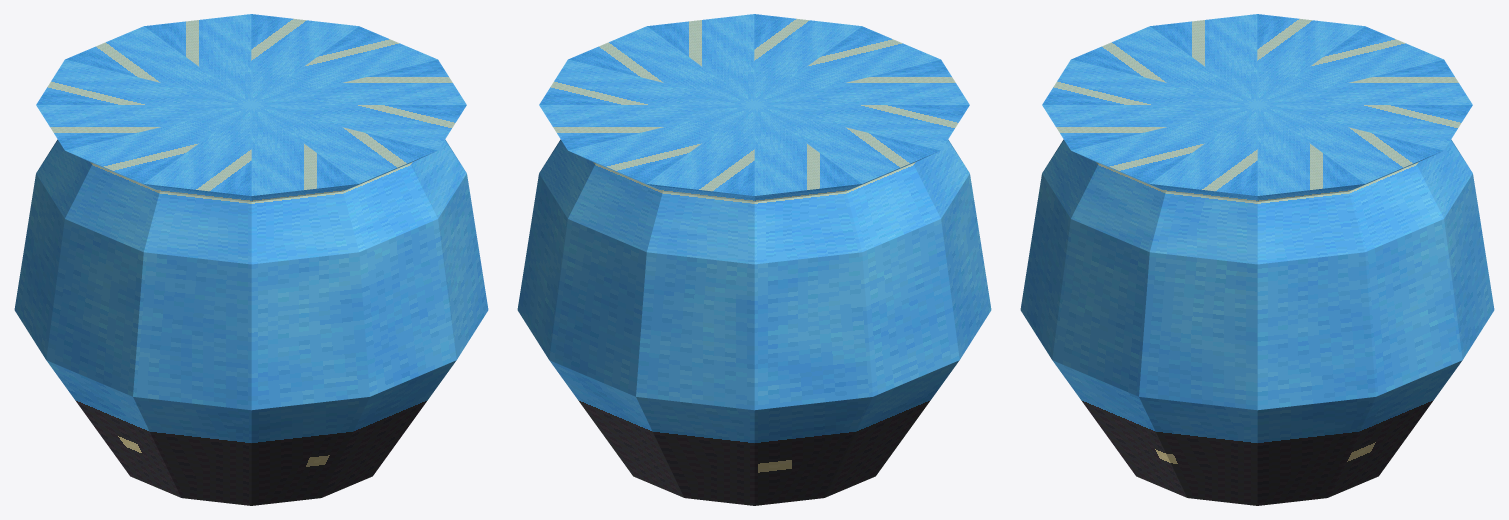
The model's file is braseiro_azul.glb.
3 views of the same model, side by side, from view 1: azimuth 30°, elevation 25°; view 2: azimuth 150°, elevation 25°; view 3: azimuth 270°, elevation 25° (orthographic).
Parts seen in each view (by area): view 1: braseiro_azul; view 2: braseiro_azul; view 3: braseiro_azul.
Boxes of the visible parts, x1,y1,x2,y2 form: braseiro_azul: (14, 14, 488, 505); braseiro_azul: (517, 14, 991, 505); braseiro_azul: (1020, 14, 1494, 505).
Bounding box in the file's own units: 0.88 × 0.7 × 0.88.
Materials: 1 (1 with a texture image).
